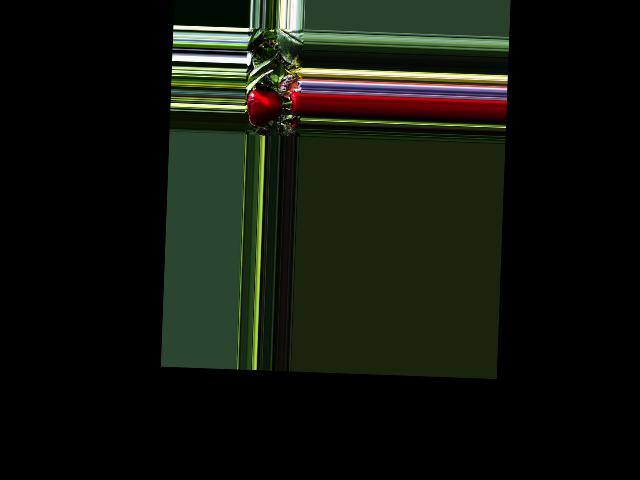bell_pepper: (286, 89, 302, 117)
